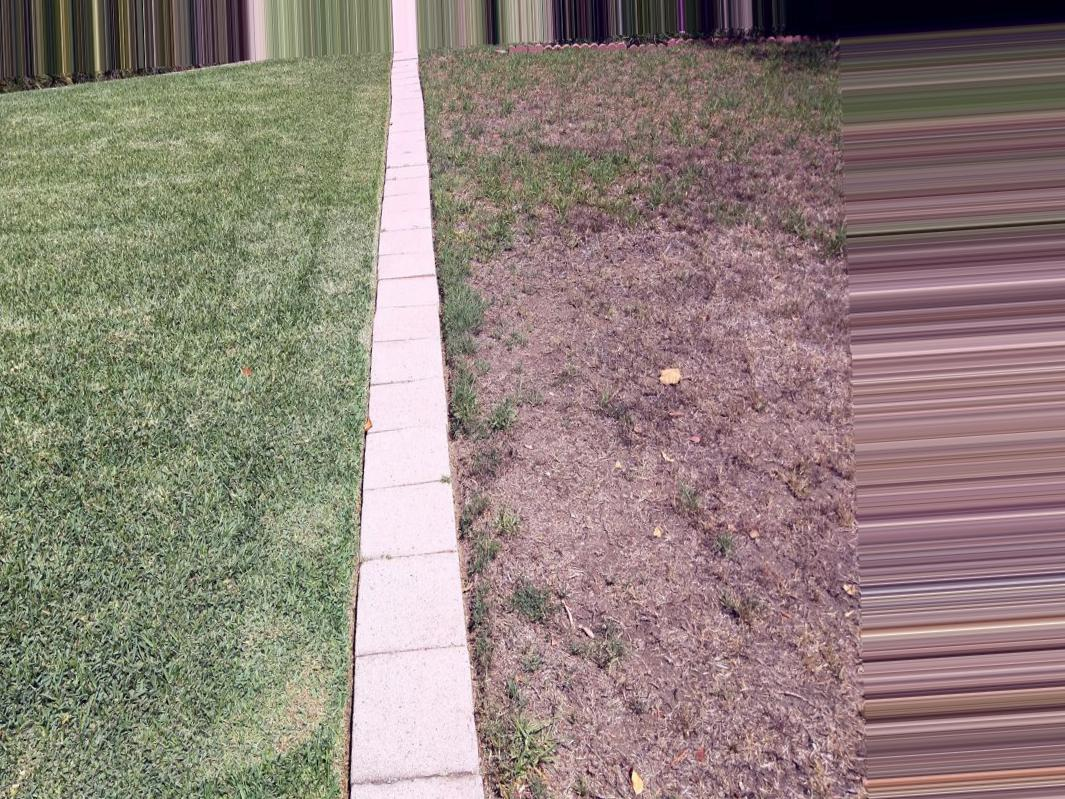patch: (459, 166, 828, 793)
